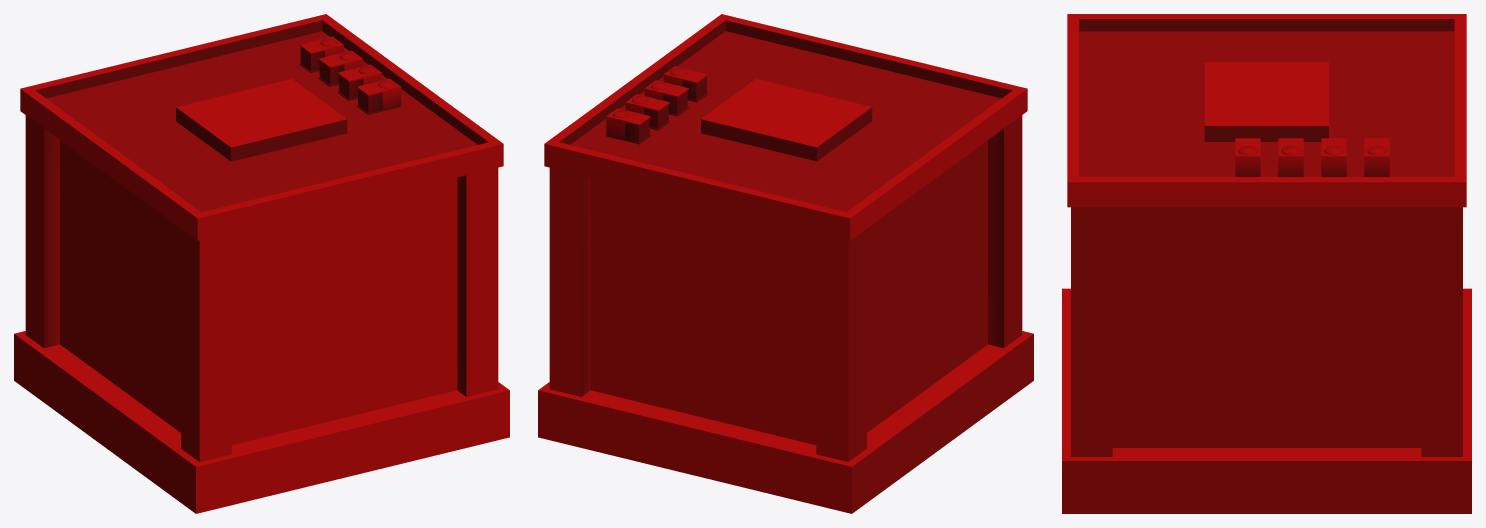
Rendered from buildings-industrial-smallindustrialstructure_v7.fbx.
3 renders of one model, left to right at view 1: azimuth 30°, elevation 25°; view 2: azimuth 150°, elevation 25°; view 3: azimuth 270°, elevation 25°, orthographic. The views are drawn at different scales.
Visible parts, largest first — view 1: SmallIndustrialStructure_v7; view 2: SmallIndustrialStructure_v7; view 3: SmallIndustrialStructure_v7.
Boxes of the visible parts, left/top/right/bottom form: SmallIndustrialStructure_v7: left=14, top=14, right=509, bottom=513; SmallIndustrialStructure_v7: left=538, top=14, right=1033, bottom=513; SmallIndustrialStructure_v7: left=1062, top=14, right=1471, bottom=513.
Size of the model in its own units: 10.78 by 9.96 by 10.83.
